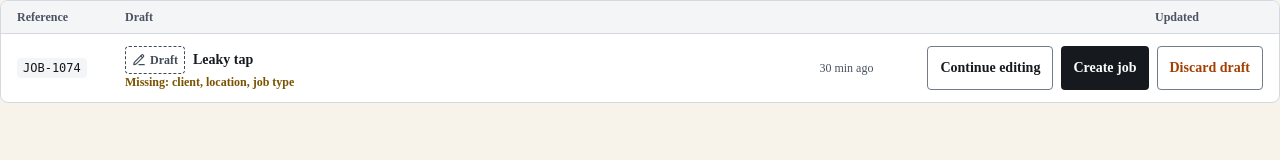
Scenario: Drafts list (4718e5f9) › NOT_A_DRAFT (someone already created it) is a friendly message
Click the button with aria-label "Create job from JOB-1074": (1105, 68) [1061,46,1148,90]
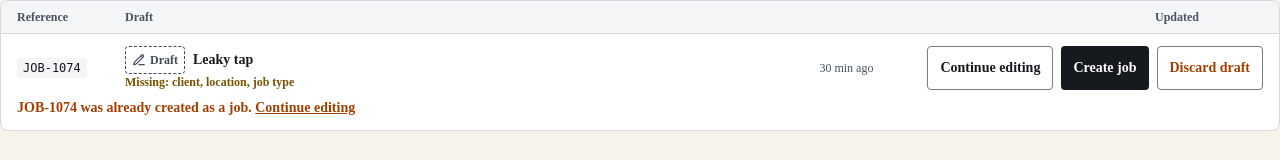
Now the message shows "JOB-1074 was already created as a job.", box [17,100,252,115]
